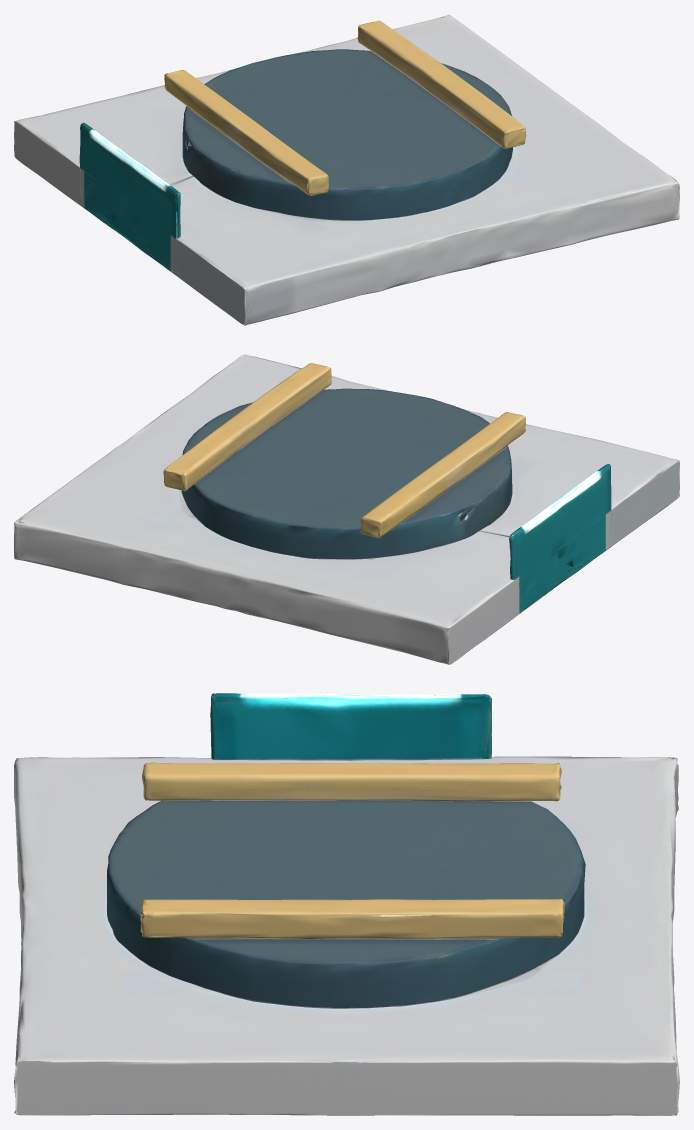
The model's file is missile-silo.glb.
3 renders of one model, top to bottom at view 1: azimuth 30°, elevation 25°; view 2: azimuth 150°, elevation 25°; view 3: azimuth 270°, elevation 25°, orthographic. The views are drawn at different scales.
Size of the model in its own units: 1 by 0.1963 by 0.9238.
1 material, 1 textured.
